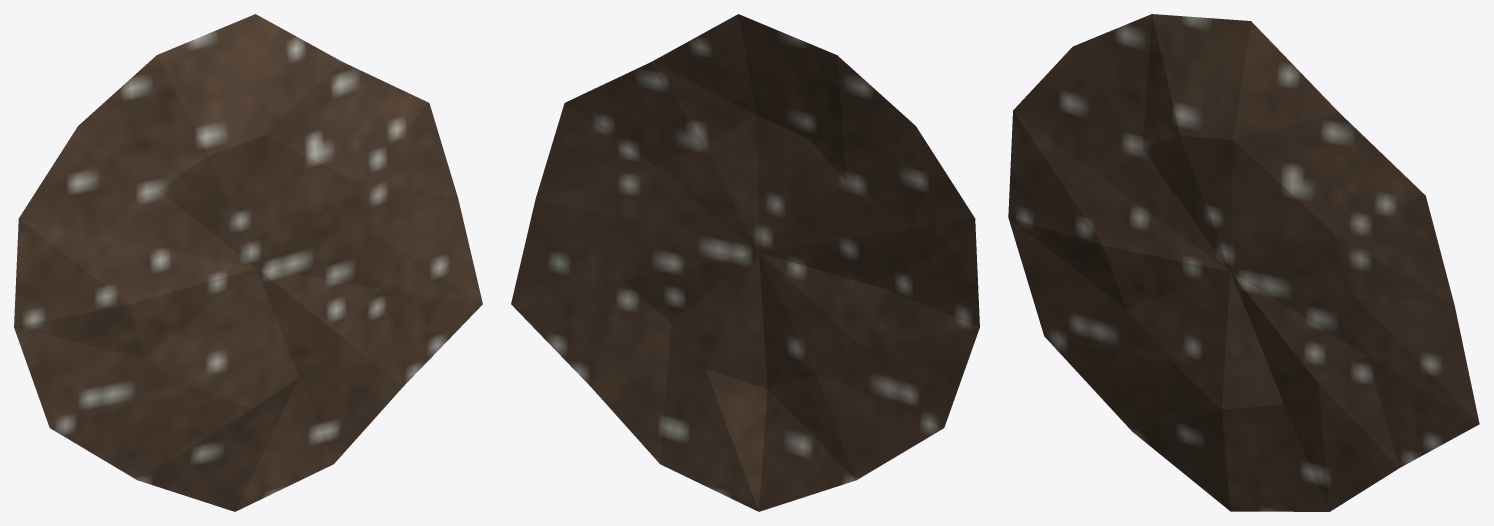
File: pot_furrow.obj
3 renders of one model, left to right at view 1: azimuth 30°, elevation 25°; view 2: azimuth 150°, elevation 25°; view 3: azimuth 330°, elevation 25°, orthographic.
Size of the model in its own units: 0.893 by 0.897 by 0.045.
1 material, 1 textured.
